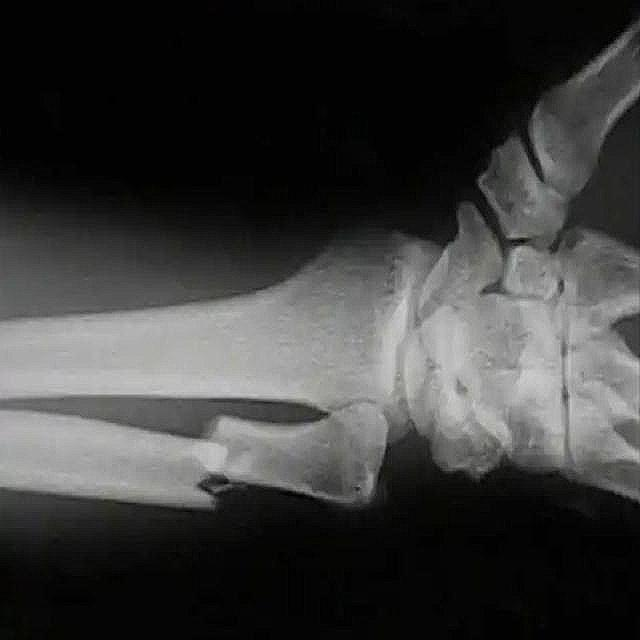bone: (171, 392, 264, 517), (371, 421, 444, 504)
